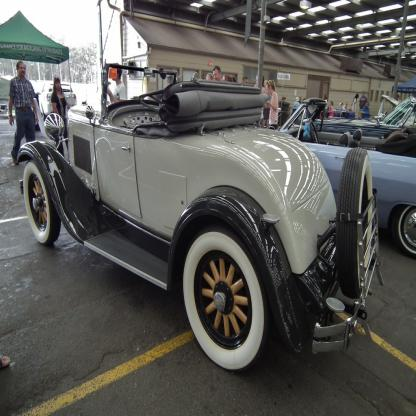Car: (9, 55, 416, 386)
